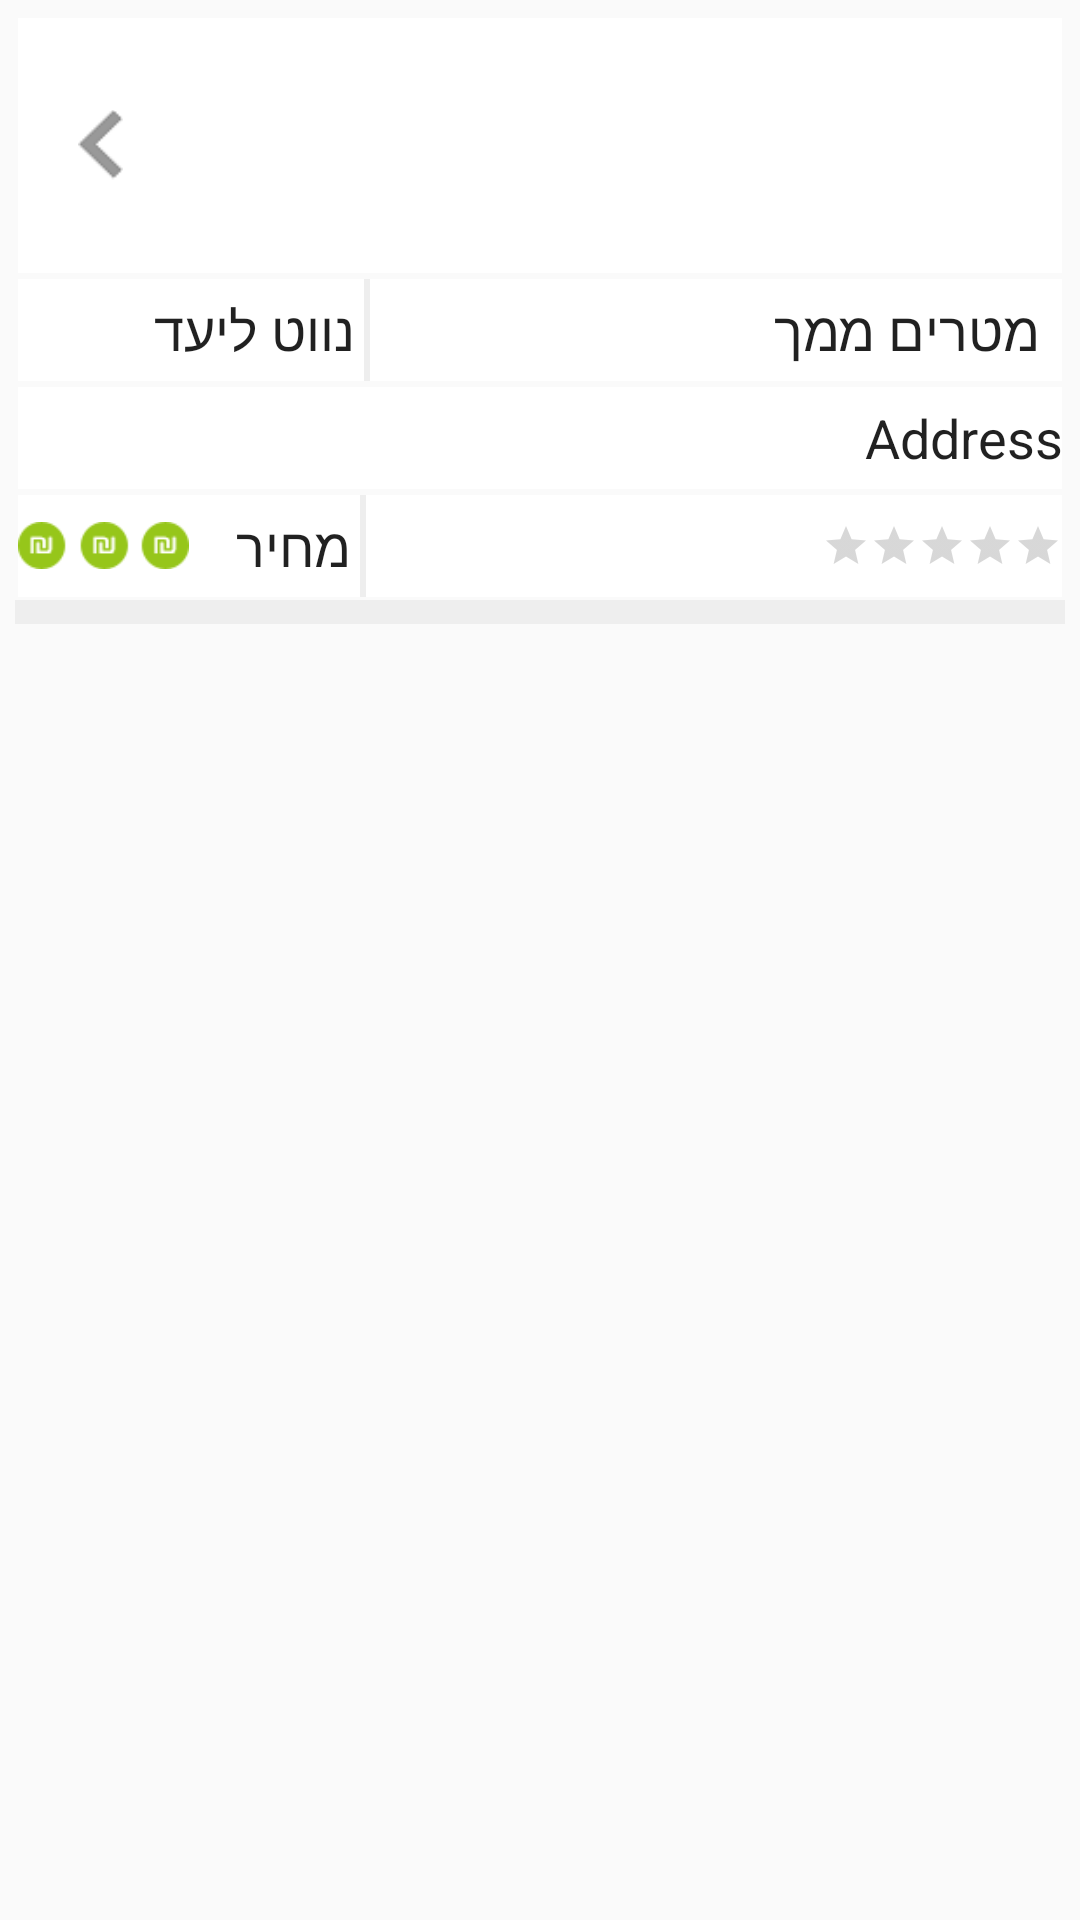

Screen size 1080px×1920px. Icon name, then its box in pixels as bbox=(x1, y1, x2, y2):
coin: bbox=(18, 522, 189, 569)
left arrow: bbox=(78, 110, 123, 178)
